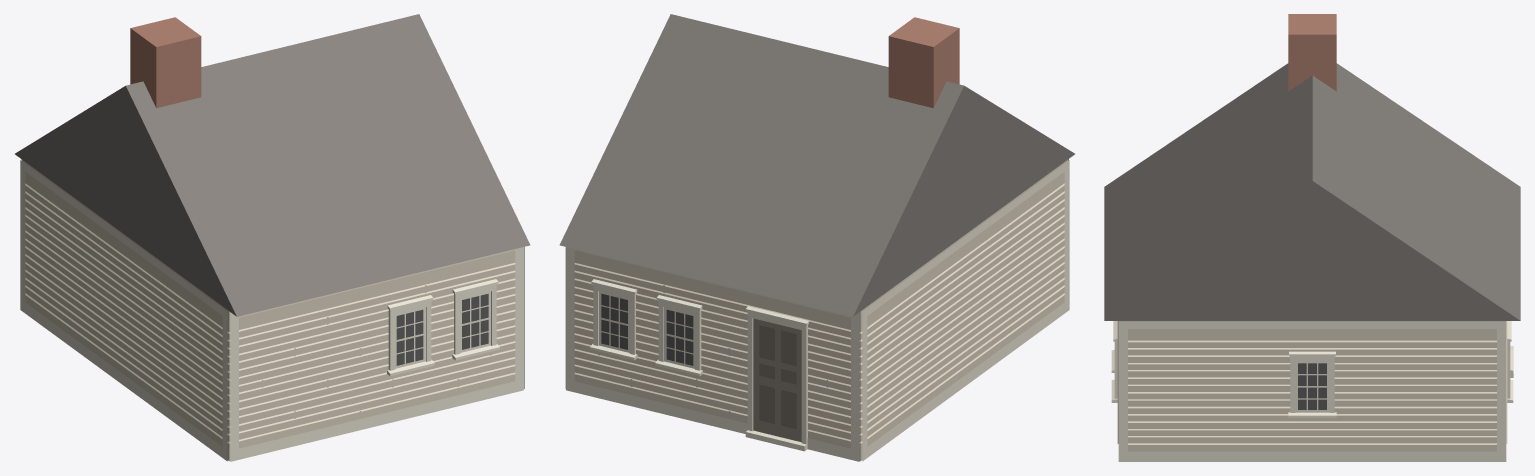
The model's file is recon_1835_west_016__inferred_1835.glb.
The picture shows the model from 3 angles, left to right: view 1: azimuth 30°, elevation 25°; view 2: azimuth 150°, elevation 25°; view 3: azimuth 270°, elevation 25°; orthographic projection. The views are drawn at different scales.
Visible parts, largest first — view 1: recon_1835_west_016__inferred_1835; view 2: recon_1835_west_016__inferred_1835; view 3: recon_1835_west_016__inferred_1835.
Part boxes in pixels (left/top/right/bottom): recon_1835_west_016__inferred_1835: left=15, top=14, right=530, bottom=461; recon_1835_west_016__inferred_1835: left=559, top=14, right=1074, bottom=461; recon_1835_west_016__inferred_1835: left=1104, top=14, right=1520, bottom=461.
Size of the model in its own units: 5.64 by 6.13 by 7.21.
